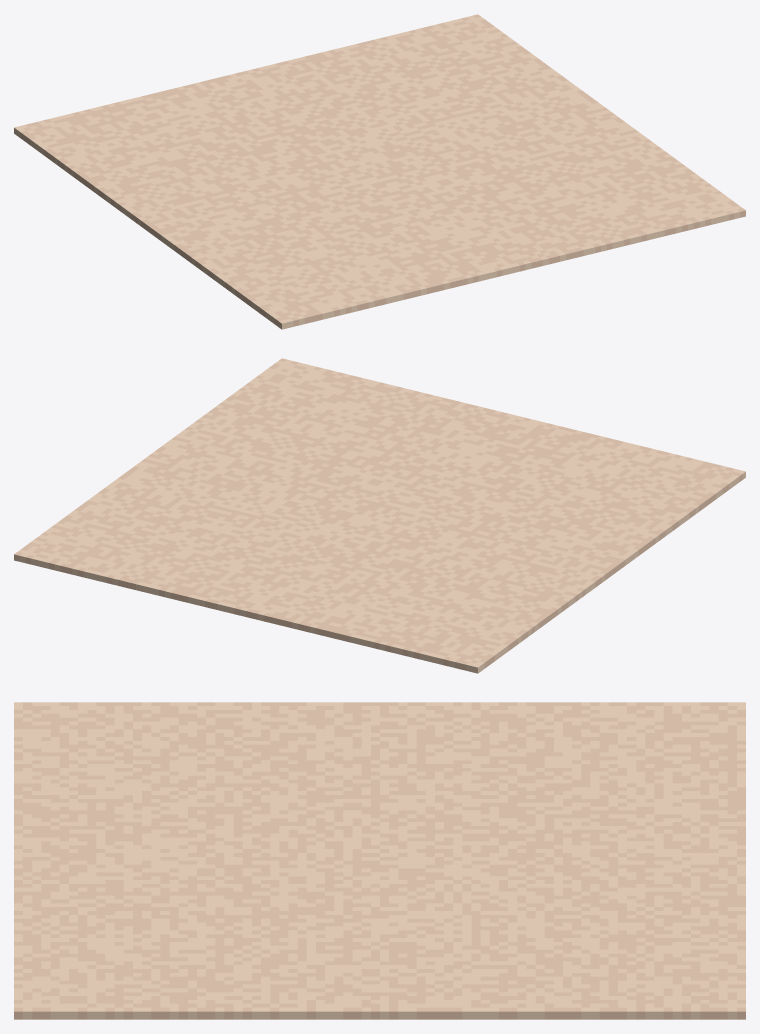
File: floor_02_L.glb
3 views of the same model, one above another, from view 1: azimuth 30°, elevation 25°; view 2: azimuth 150°, elevation 25°; view 3: azimuth 270°, elevation 25° (orthographic). The views are drawn at different scales.
Visible parts, largest first — view 1: Untitled; view 2: Untitled; view 3: Untitled.
Part boxes in pixels (left/top/right/bottom): Untitled: left=14, top=14, right=745, bottom=329; Untitled: left=14, top=358, right=745, bottom=673; Untitled: left=14, top=702, right=745, bottom=1019.
Size of the model in its own units: 2.4 by 0.03 by 2.4.
1 material, 1 textured.
